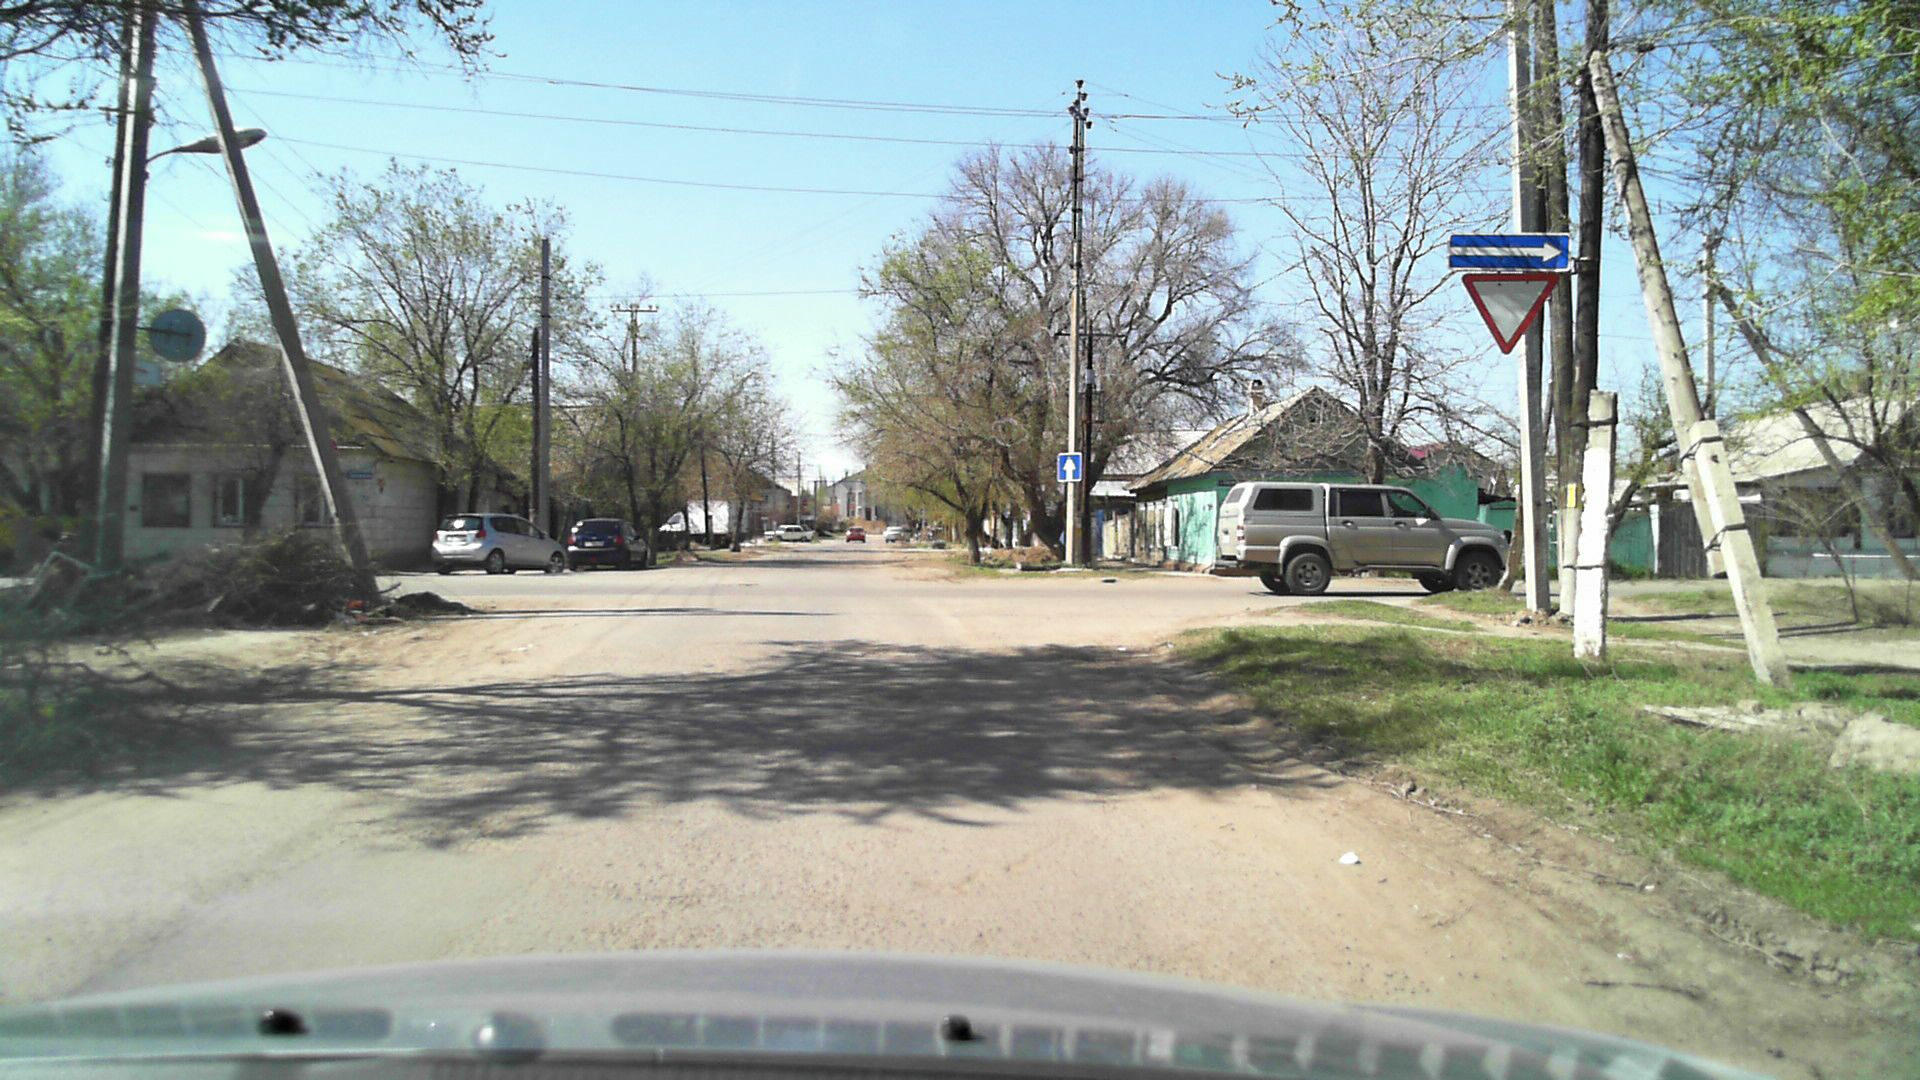One-Way Traffic: (1448, 233, 1571, 272)
